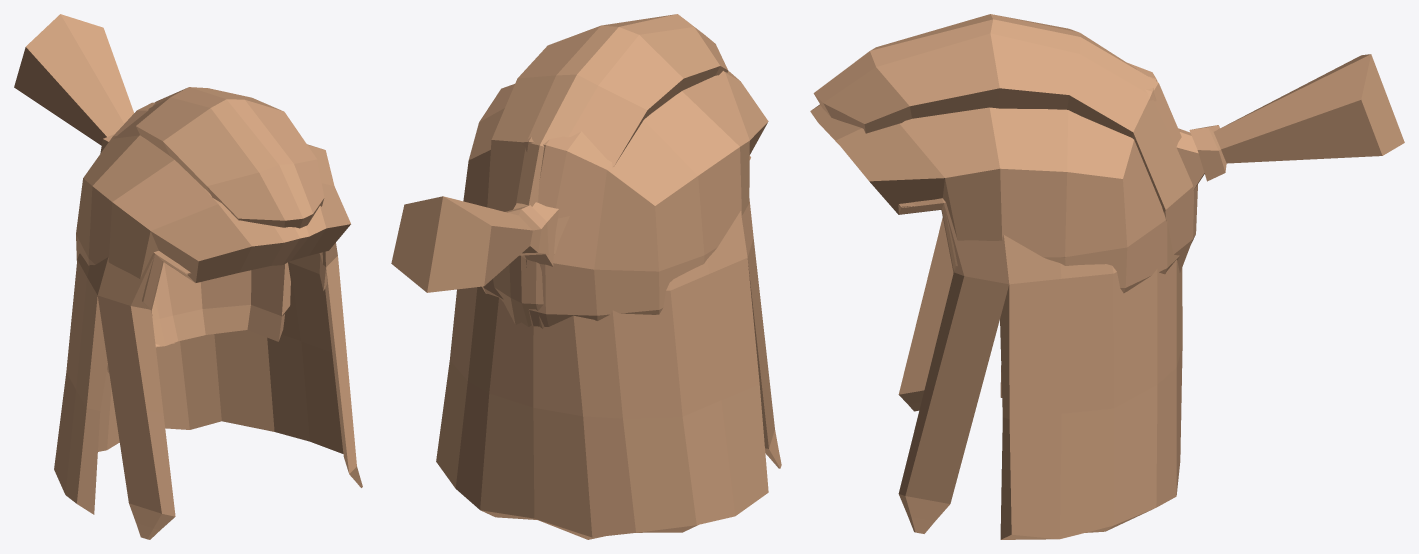
Rendered from AssetForCHARED.fbx_Cabelo.fbx.
3 renders of one model, left to right at view 1: azimuth 30°, elevation 25°; view 2: azimuth 150°, elevation 25°; view 3: azimuth 270°, elevation 25°, orthographic. The views are drawn at different scales.
Visible parts, largest first — view 1: Cabelo.004, Cabelo.001, Cabelo.002, Cabelo.005, Cabelo.003; view 2: Cabelo.004, Cabelo.001, Cabelo.002, Cabelo.005; view 3: Cabelo.004, Cabelo.001, Cabelo.002, Cabelo.005, Cabelo.003.
Boxes of the visible parts, x1,y1,x2,y2 form: Cabelo.004: (54, 243, 362, 539); Cabelo.001: (76, 102, 350, 347); Cabelo.002: (113, 87, 324, 346); Cabelo.005: (14, 14, 284, 372); Cabelo.003: (142, 247, 332, 308); Cabelo.004: (436, 198, 781, 539); Cabelo.001: (463, 71, 768, 326); Cabelo.002: (487, 14, 728, 328); Cabelo.005: (391, 156, 750, 292); Cabelo.004: (898, 202, 1182, 539); Cabelo.001: (810, 63, 1179, 293); Cabelo.002: (813, 14, 1197, 272); Cabelo.005: (898, 54, 1404, 207); Cabelo.003: (898, 198, 957, 271).
Size of the model in its own units: 20.29 by 27.79 by 32.54.
Materials: 1 (1 with a texture image).
